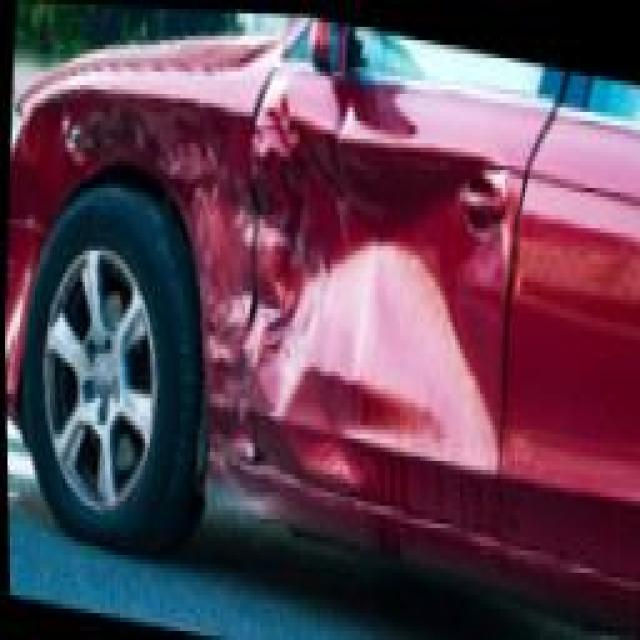Bumper: (4, 217, 51, 402)
Door: (242, 65, 547, 530)
Fender: (7, 41, 276, 463)
